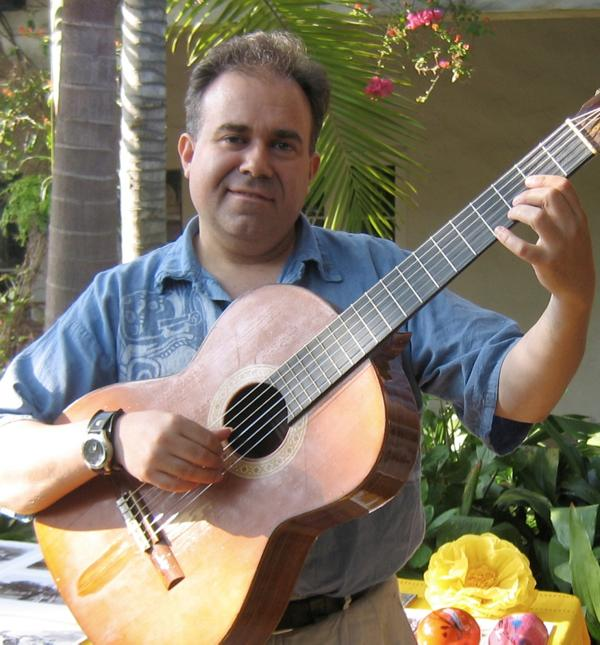person: (4, 35, 597, 644)
